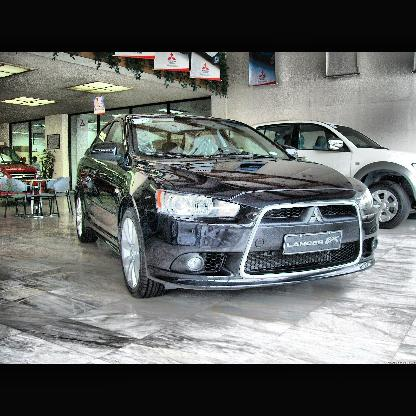Mitsubishi Lancer Sedan 2012: (74, 113, 382, 302)
